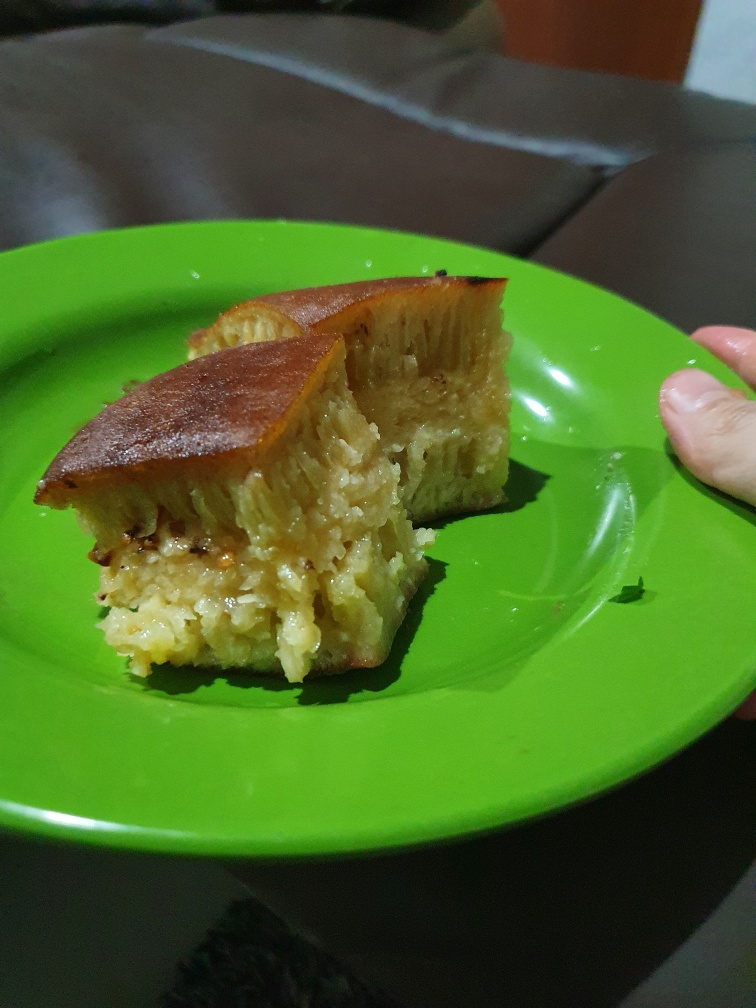martabak manis: (75, 355, 436, 695), (215, 254, 535, 537)
